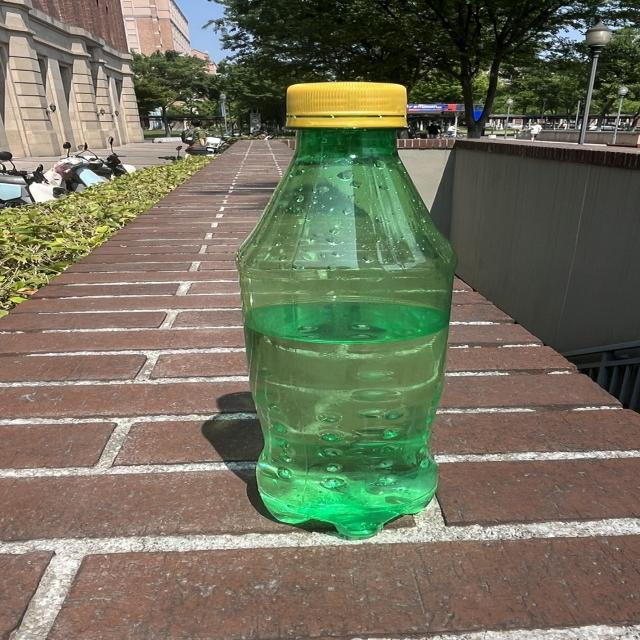medium: (237, 82, 455, 538)
